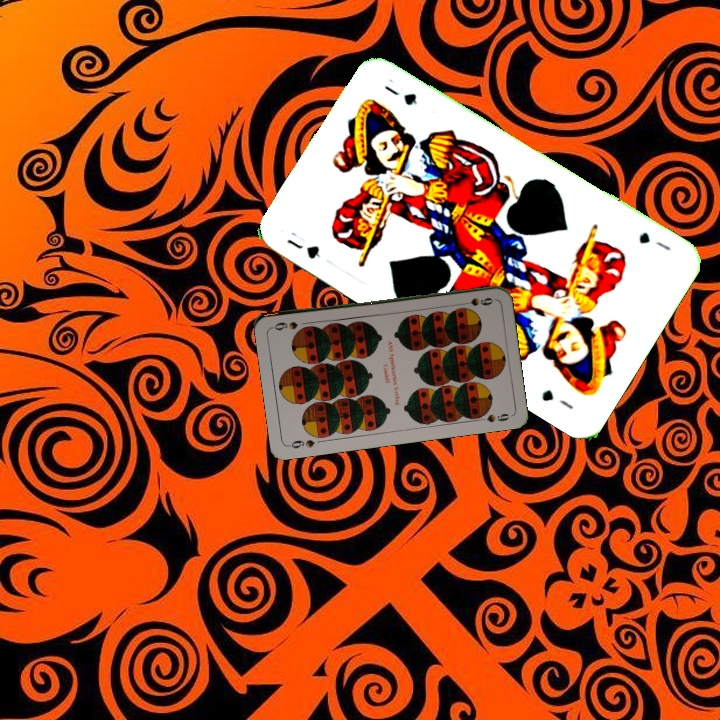GU: (282, 227, 324, 262), (634, 227, 673, 253)
S9: (456, 294, 496, 308), (284, 435, 317, 451)
